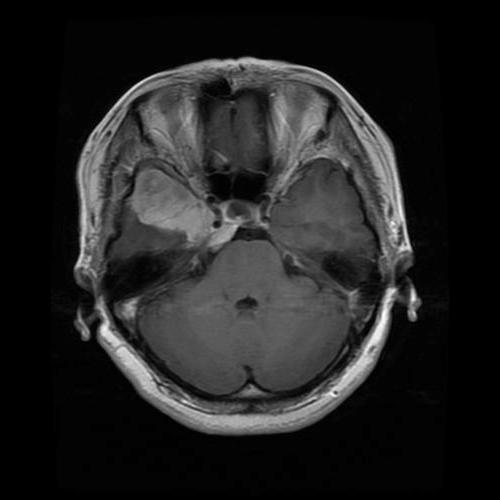Tumour-Pituitary: (105, 163, 226, 256)
